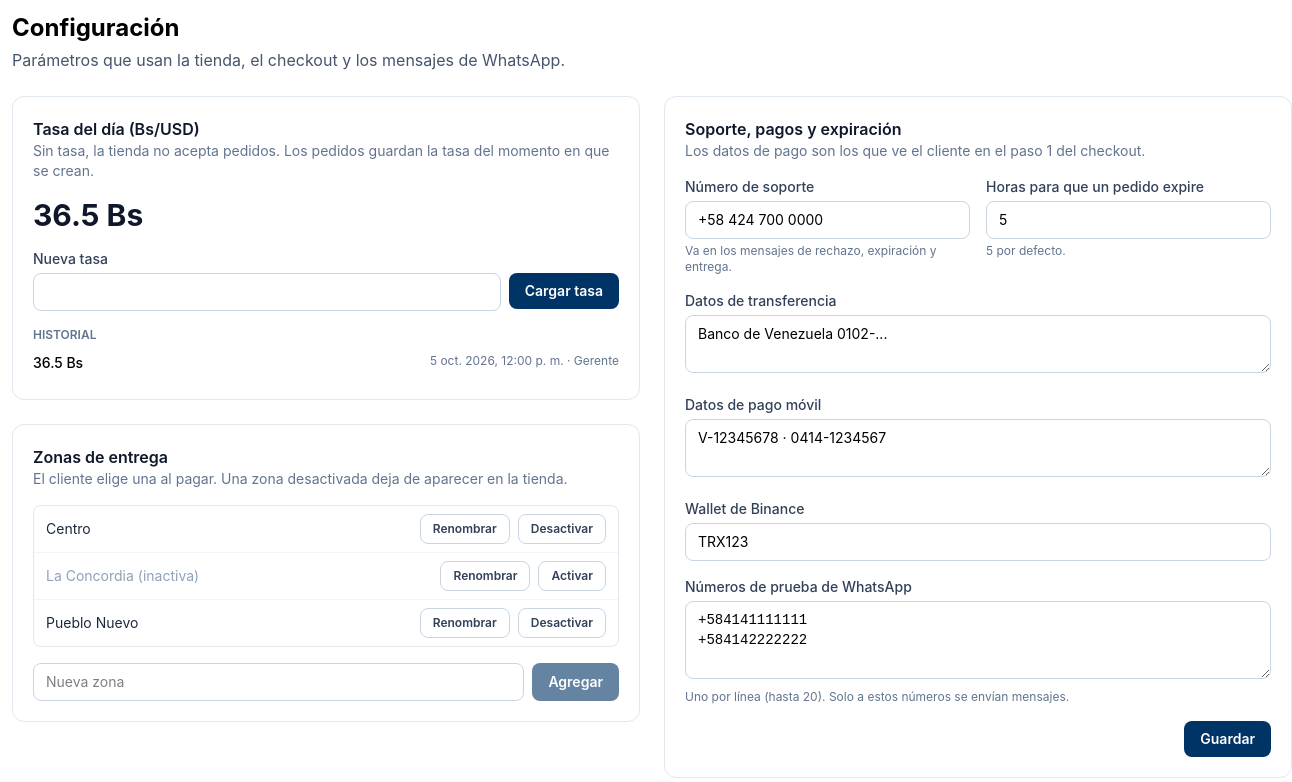
Test: Configuracion: zonas de entrega › renombra una zona conservando si está activa
The image size is (1292, 782).
Expected: the text "Centro" is shown, [46, 520, 91, 537]
Click the button "Renombrar" in the row of "Centro". click: [465, 529]
box: [420, 514, 510, 544]
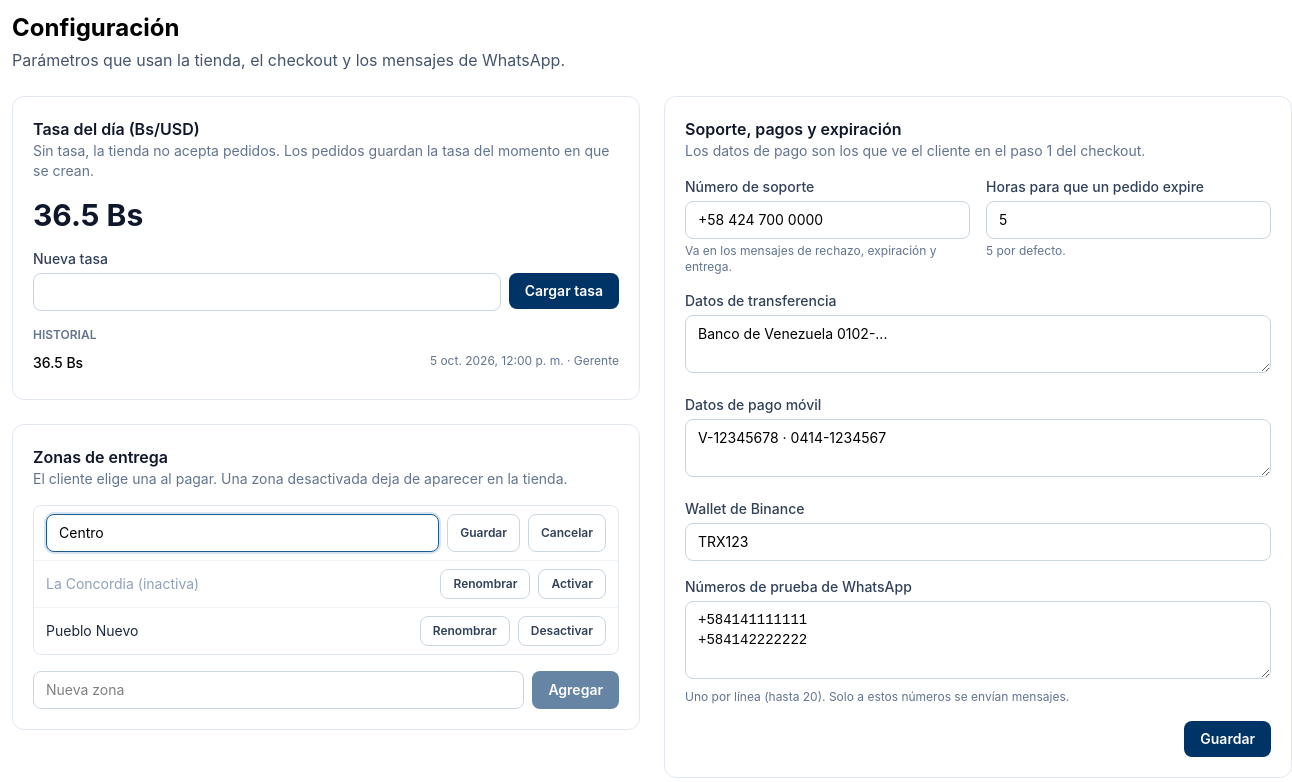
Result: the field named "Nombre de la zona" holds "Centro"
Replace the text in the field named "Nombre de la zona" with "Casco Central". click: [243, 533]
box: [46, 514, 439, 552]
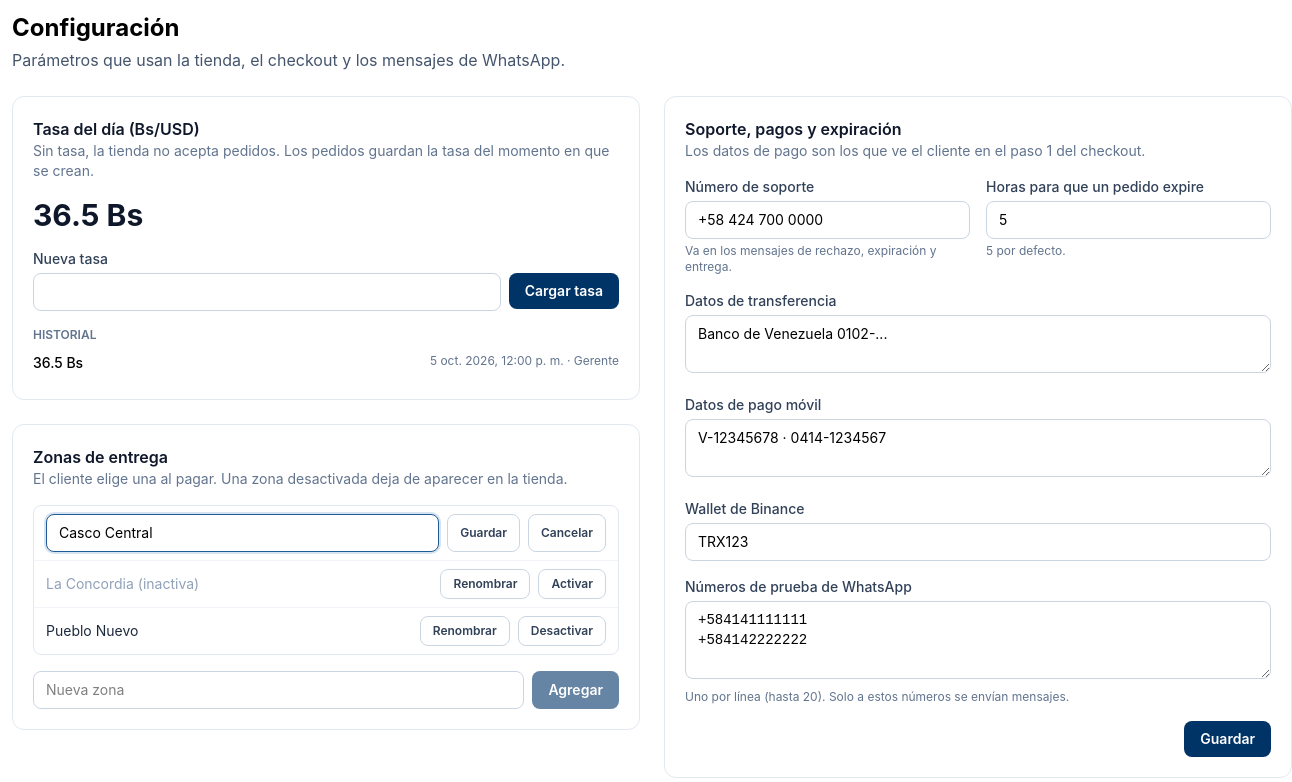
Click the button "Guardar" below "5 oct. 2026, 12:00 p. m.". click: [484, 533]
box: [447, 514, 520, 552]
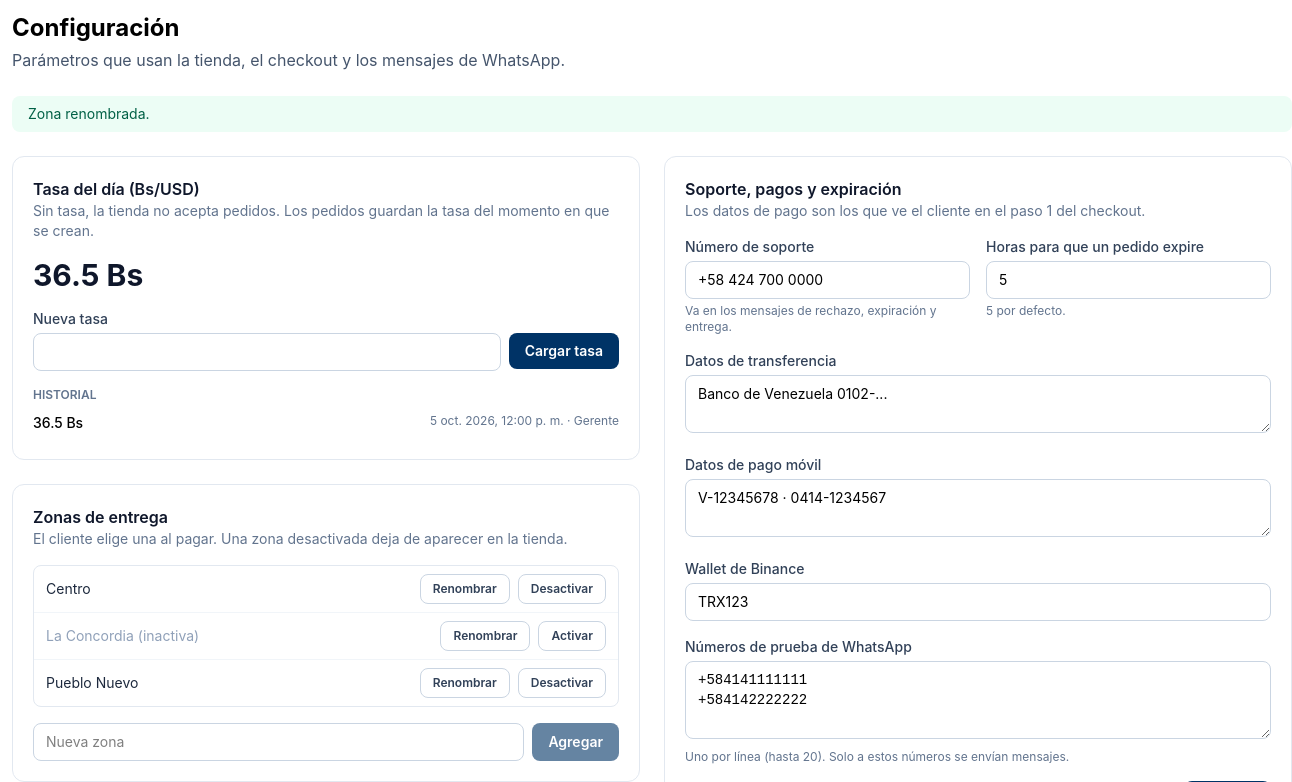
Result: the message reads "Zona renombrada." at [28, 105, 150, 122]
